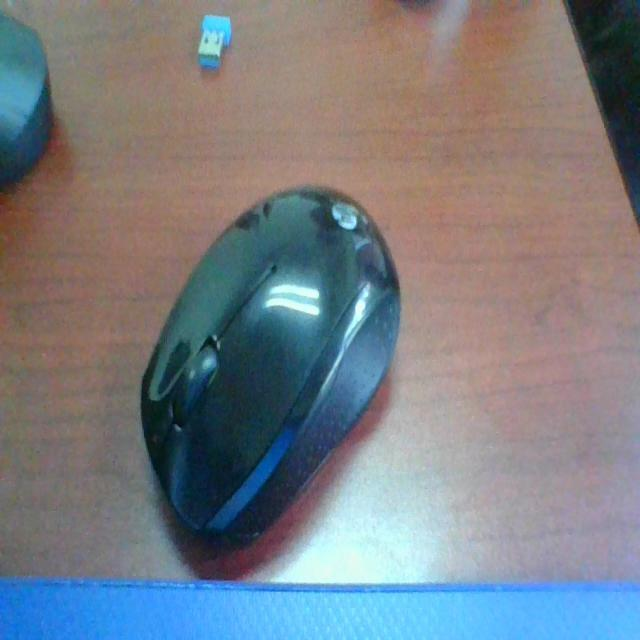mouse: (120, 160, 456, 582)
